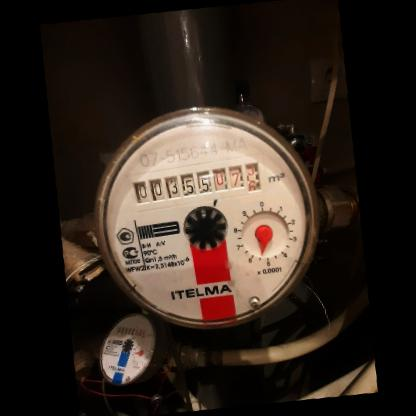digital_screen: (125, 160, 213, 213)
